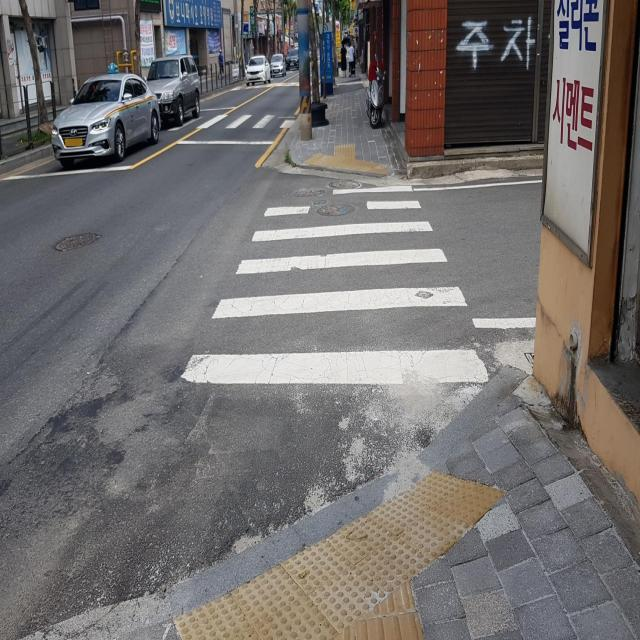횡단보도: (180, 184, 489, 386), (197, 103, 294, 140)
